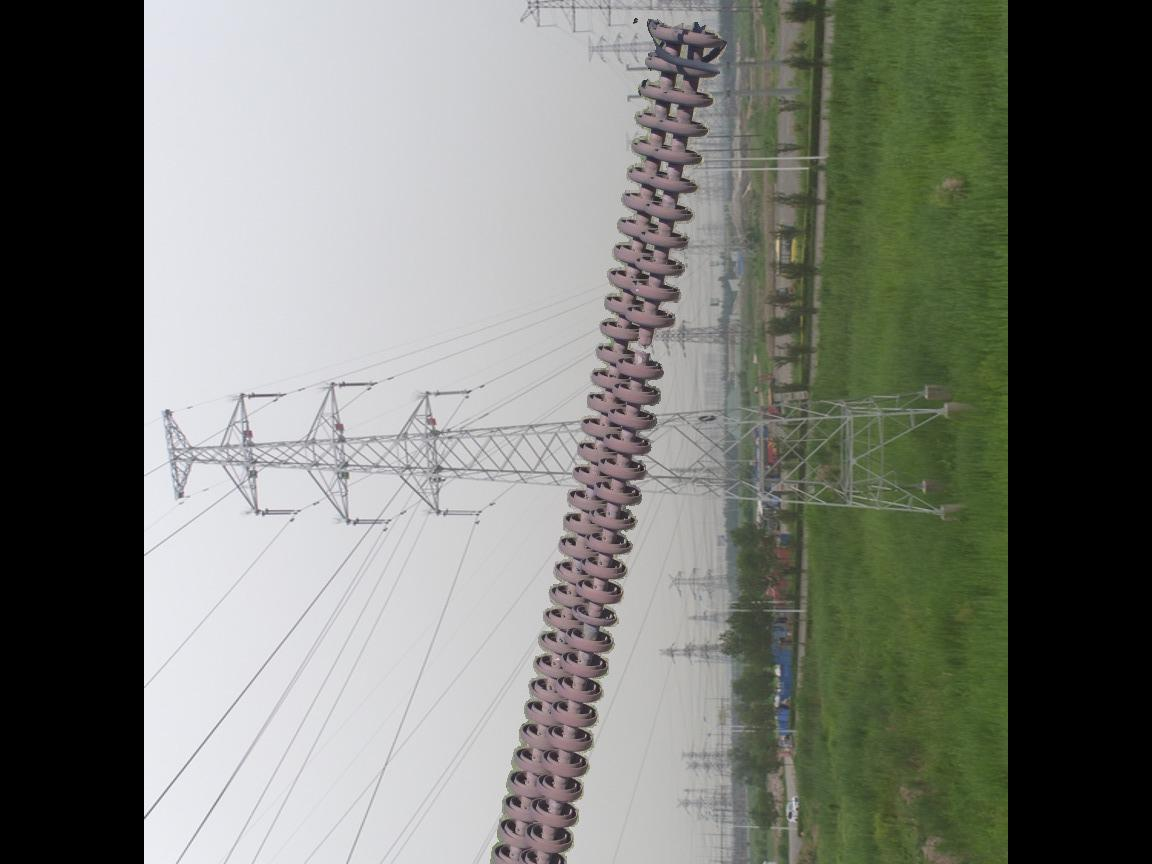insulator: (482, 15, 725, 864)
insulator_stringdrop: (611, 305, 680, 386)
